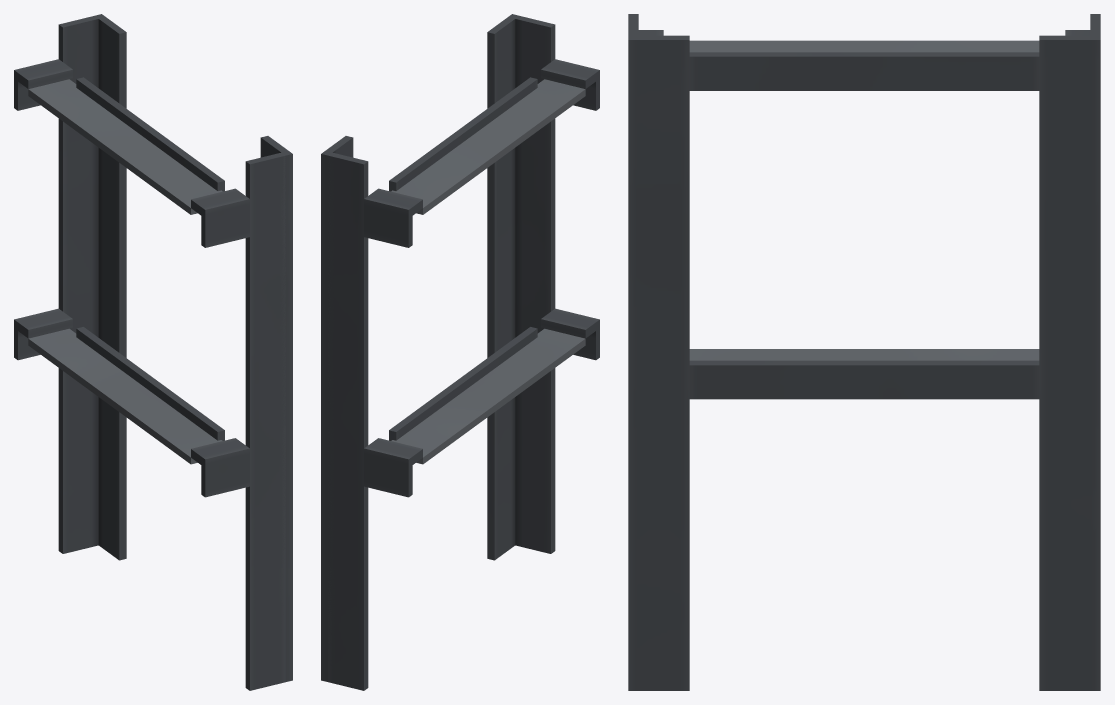
The model's file is joint_right_upper.obj.
3 views of the same model, side by side, from view 1: azimuth 30°, elevation 25°; view 2: azimuth 150°, elevation 25°; view 3: azimuth 270°, elevation 25° (orthographic). The views are drawn at different scales.
Visible parts, largest first — view 1: joint_right_upper__joint_right_upper_posts, joint_right_upper__joint_right_upper_deck, joint_right_upper__joint_right_upper_beams; view 2: joint_right_upper__joint_right_upper_posts, joint_right_upper__joint_right_upper_deck, joint_right_upper__joint_right_upper_beams; view 3: joint_right_upper__joint_right_upper_posts, joint_right_upper__joint_right_upper_beams, joint_right_upper__joint_right_upper_deck.
Boxes of the visible parts, bbox=[...] form: joint_right_upper__joint_right_upper_posts: bbox=[58, 14, 292, 690]; joint_right_upper__joint_right_upper_deck: bbox=[28, 79, 222, 464]; joint_right_upper__joint_right_upper_beams: bbox=[14, 59, 249, 497]; joint_right_upper__joint_right_upper_posts: bbox=[321, 14, 555, 690]; joint_right_upper__joint_right_upper_deck: bbox=[391, 79, 585, 464]; joint_right_upper__joint_right_upper_beams: bbox=[364, 59, 599, 497]; joint_right_upper__joint_right_upper_posts: bbox=[628, 14, 1100, 690]; joint_right_upper__joint_right_upper_beams: bbox=[638, 30, 1090, 399]; joint_right_upper__joint_right_upper_deck: bbox=[689, 40, 1039, 360].
Bounding box in the file's own units: 0.1656 × 0.95 × 0.625.
